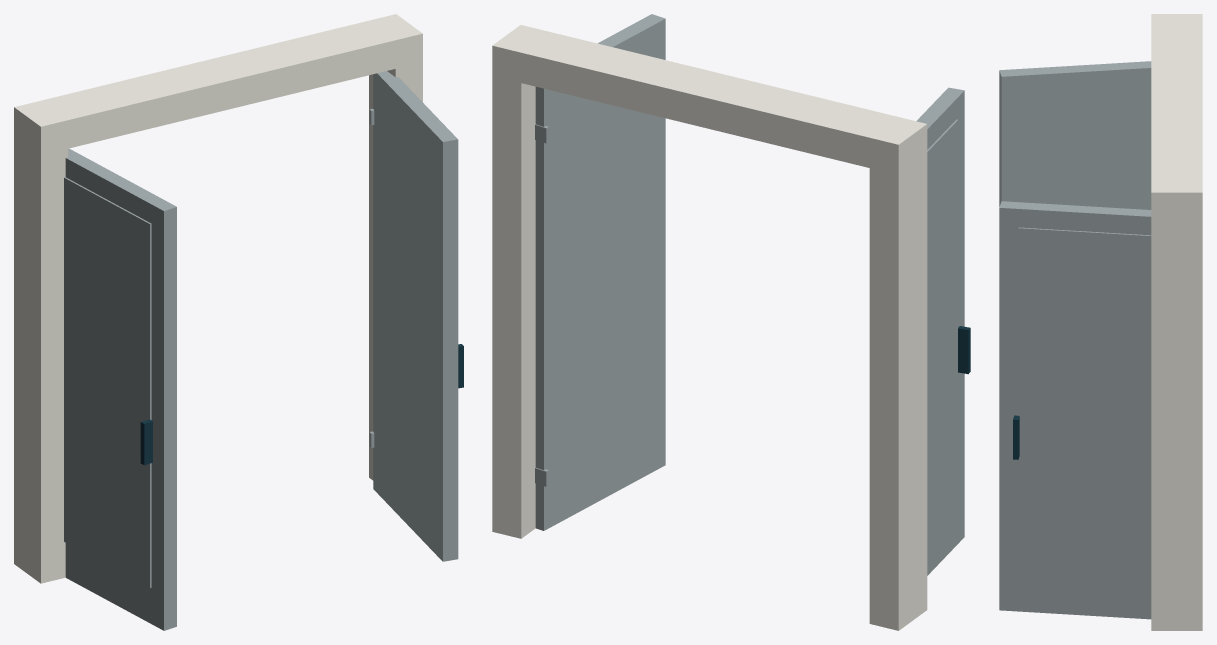
File: double_doors_open.glb
3 renders of one model, left to right at view 1: azimuth 30°, elevation 25°; view 2: azimuth 150°, elevation 25°; view 3: azimuth 270°, elevation 25°, orthographic. The views are drawn at different scales.
Visible parts, largest first — view 1: Aero_double_doors_open; view 2: Aero_double_doors_open; view 3: Aero_double_doors_open.
Part boxes in pixels (x1,y1,x2,y2): Aero_double_doors_open: (14,14,463,630); Aero_double_doors_open: (492,14,970,630); Aero_double_doors_open: (999,14,1202,630).
Bounding box in the file's own units: 2.8 × 3.2 × 1.35.
3 materials, 3 textured.
